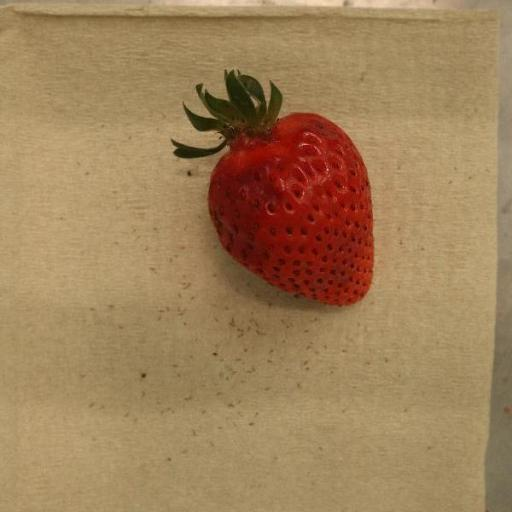Strawberry: (182, 68, 375, 307)
